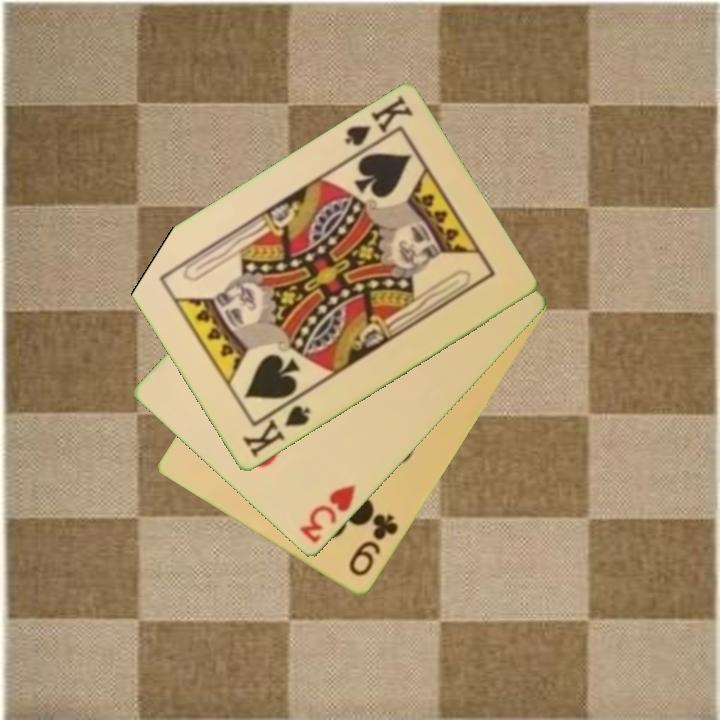3h: (296, 481, 359, 547)
9c: (345, 510, 402, 580)
Ks: (239, 394, 314, 462), (341, 92, 416, 160)
